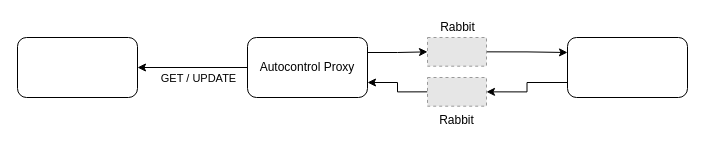
Some shapes in this 705 by 144 pixel diagram are drawn without their labels. Grey dashed boxes stand in for pictures. The shapes that lost their labels are listed below. From the top down, each one's centre as x and y in pixels, then its label:
At point 77,67: "Autocontrol".
At point 627,67: "Plato BackOffice".
